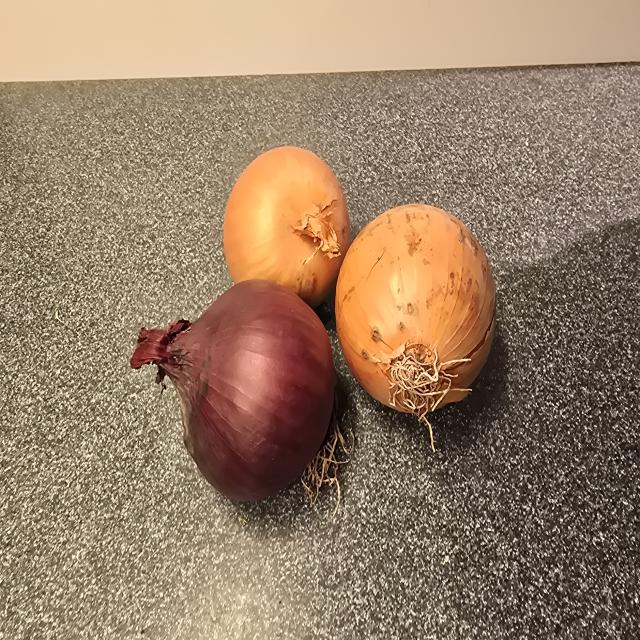Onion: (131, 280, 335, 502), (335, 204, 496, 417), (224, 147, 350, 308)
